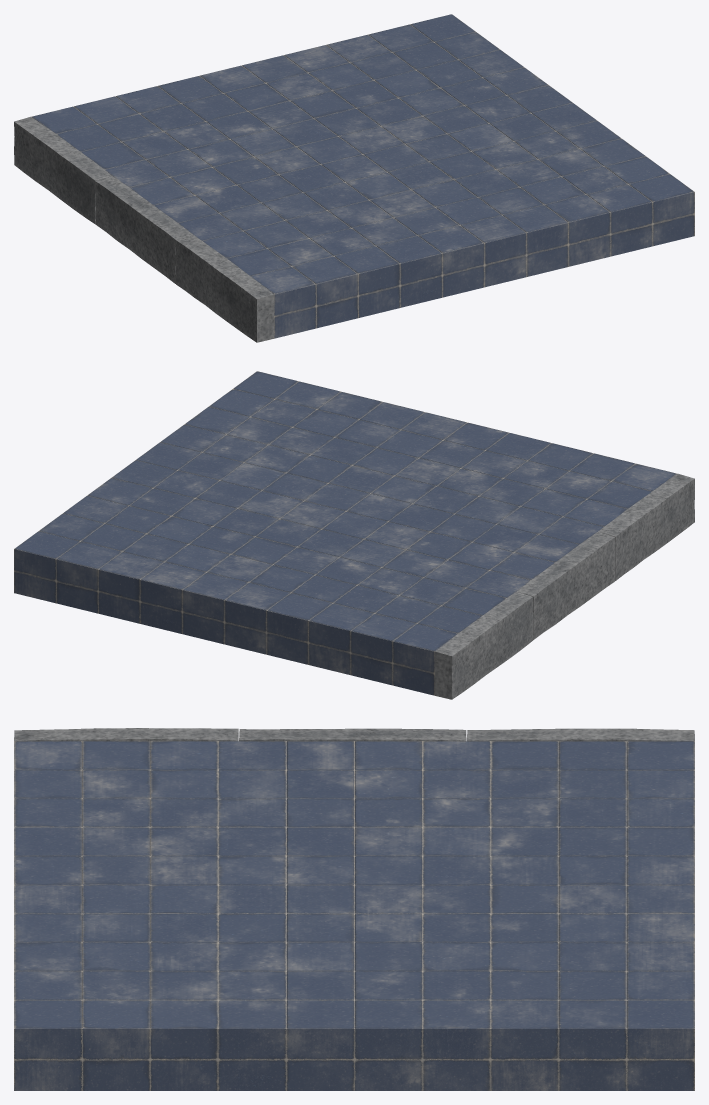
Rendered from SM_Gidan02a.fbx.
3 renders of one model, top to bottom at view 1: azimuth 30°, elevation 25°; view 2: azimuth 150°, elevation 25°; view 3: azimuth 270°, elevation 25°, orthographic. The views are drawn at different scales.
Visible parts, largest first — view 1: SM_Gidan02a; view 2: SM_Gidan02a; view 3: SM_Gidan02a.
Boxes of the visible parts, box(x1,y1,x2,y2) form: SM_Gidan02a: box(14, 14, 694, 342); SM_Gidan02a: box(14, 371, 694, 699); SM_Gidan02a: box(14, 728, 694, 1090).
Size of the model in its own units: 313 by 300 by 31.12.
2 materials, 2 textured.
